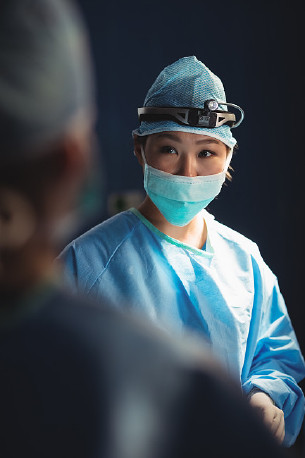face_mask: (144, 125, 228, 226)
